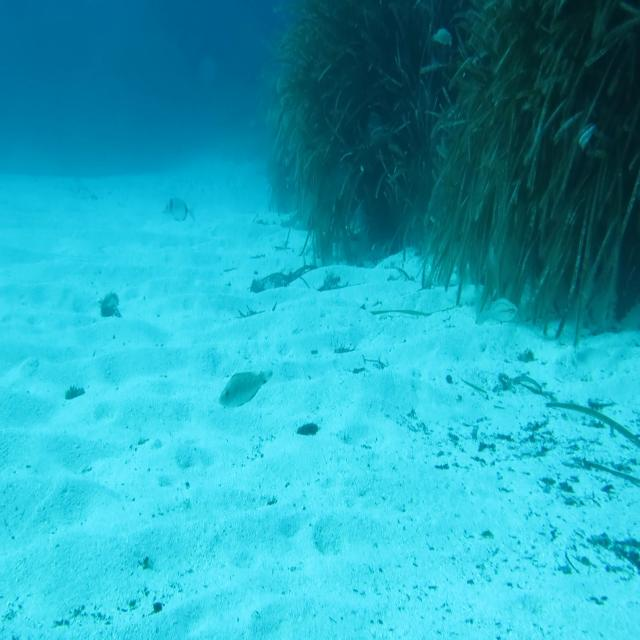BN: (216, 366, 274, 410)
female: (475, 296, 518, 328)
other_fish: (159, 192, 196, 227), (431, 22, 455, 50)
vegetation: (264, 0, 640, 318), (495, 361, 640, 577), (98, 284, 125, 323), (61, 384, 86, 400), (296, 422, 318, 437)
